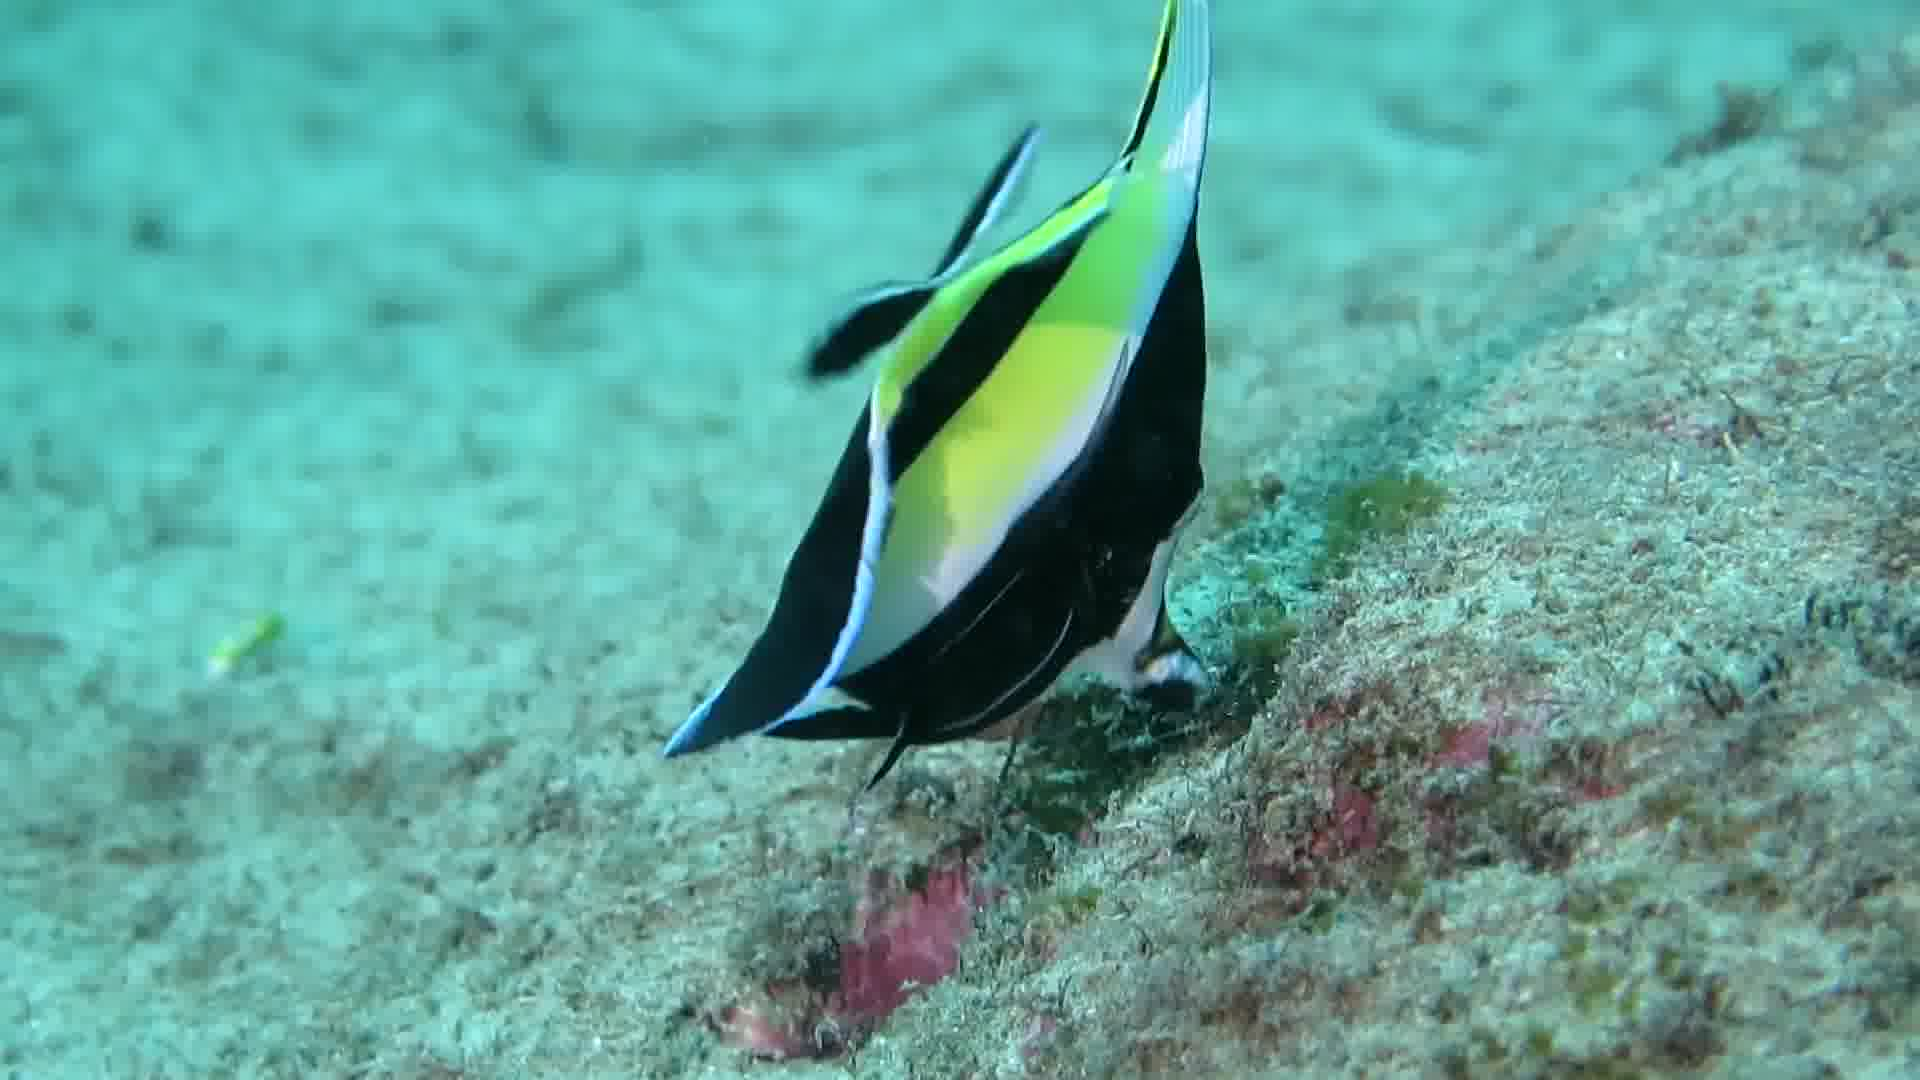Zanclus cornutus: (580, 82, 1490, 905)
